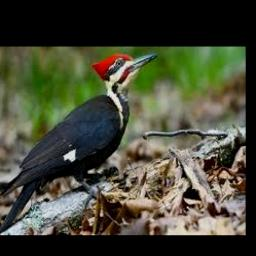Woodpecker: (0, 53, 157, 235)
